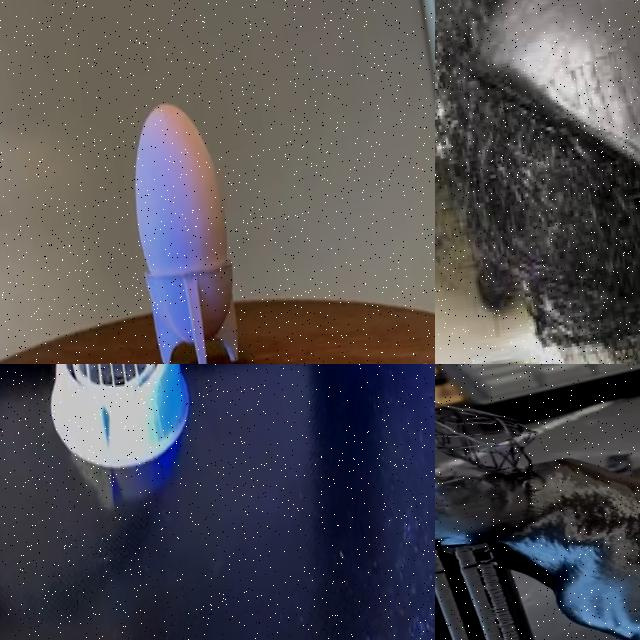spaghetti: (435, 364, 579, 541)
